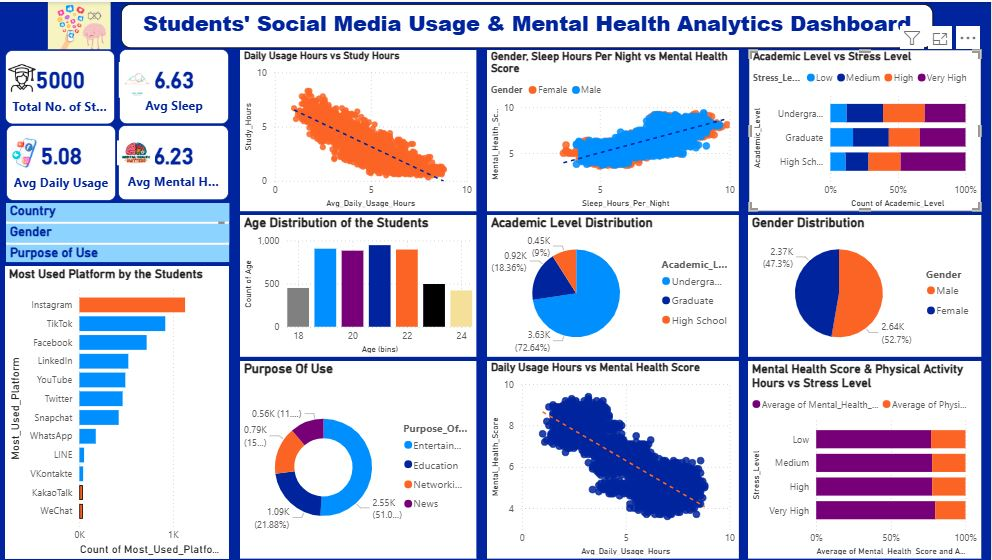

This screenshot's page, from the dashboard's own definition file:
{"tool":"powerbi","page":{"name":"Page 1","canvas":[1280,720],"ordinal":0},"visuals":[{"type":"pieChart","title":"Gender  Distribution","fields":{"Category":["Student Social Media And Mental Health Impact.Gender"],"Y":["CountNonNull(Student Social Media And Mental Health Impact.Gender)"]},"box":[966.5,274.8,300.6,183.2],"z":0},{"type":"clusteredColumnChart","title":"Age Distribution of the Students","fields":{"Category":["Student Social Media And Mental Health Impact.Age (bins)"],"Y":["CountNonNull(Student Social Media And Mental Health Impact.Age)"]},"box":[311,274.8,304.5,183.2],"z":1000},{"type":"card","fields":{"Values":["Student Social Media And Mental Health Impact.Avg Daily Usage"]},"box":[9,158.7,141.9,98.1],"z":2000},{"type":"pieChart","title":"Academic Level Distribution","fields":{"Category":["Student Social Media And Mental Health Impact.Academic_Level"],"Y":["CountNonNull(Student Social Media And Mental Health Impact.Academic_Level)"]},"box":[629.7,274.8,325.2,183.2],"z":3000},{"type":"barChart","title":" Most Used Platform by the Students","fields":{"Category":["Student Social Media And Mental Health Impact.Most_Used_Platform"],"Y":["CountNonNull(Student Social Media And Mental Health Impact.Most_Used_Platform)"]},"box":[7.7,340.6,289,378.1],"z":4000},{"type":"donutChart","title":" Purpose Of Use ","fields":{"Category":["Student Social Media And Mental Health Impact.Purpose_Of_Use"],"Y":["CountNonNull(Student Social Media And Mental Health Impact.Purpose_Of_Use)"]},"box":[311,463.2,304.5,255.5],"z":5000},{"type":"scatterChart","title":"Daily Usage Hours vs Mental Health Score","fields":{"X":["Student Social Media And Mental Health Impact.Avg_Daily_Usage_Hours"],"Y":["Student Social Media And Mental Health Impact.Mental_Health_Score"]},"box":[629.7,463.2,325.2,255.5],"z":6000},{"type":"scatterChart","title":"Daily Usage Hours vs Study Hours","fields":{"Y":["Student Social Media And Mental Health Impact.Study_Hours"],"X":["Student Social Media And Mental Health Impact.Avg_Daily_Usage_Hours"]},"box":[311,61.9,304.5,207.7],"z":7000},{"type":"scatterChart","title":"Gender, Sleep Hours Per Night vs Mental Health Score","fields":{"X":["Student Social Media And Mental Health Impact.Sleep_Hours_Per_Night"],"Y":["Student Social Media And Mental Health Impact.Mental_Health_Score"],"Series":["Student Social Media And Mental Health Impact.Gender"]},"box":[629.7,61.9,325.2,207.7],"z":8000},{"type":"hundredPercentStackedBarChart","title":" Mental Health Score & Physical Activity Hours vs Stress Level","fields":{"Y":["Avg(Student Social Media And Mental Health Impact.Mental_Health_Score)","Avg(Student Social Media And Mental Health Impact.Physical_Activity_Hours)"],"Category":["Student Social Media And Mental Health Impact.Stress_Level"]},"box":[966.5,463.2,300.6,255.5],"z":9000},{"type":"textbox","box":[157.4,2.6,1047.7,56.8],"z":10000},{"type":"hundredPercentStackedBarChart","title":" Academic Level vs Stress Level","fields":{"Category":["Student Social Media And Mental Health Impact.Academic_Level"],"Y":["CountNonNull(Student Social Media And Mental Health Impact.Academic_Level)"],"Series":["Student Social Media And Mental Health Impact.Stress_Level"]},"box":[967.7,61.9,299.4,207.7],"z":11000},{"type":"image","box":[9.6,77.1,41.3,41.3],"z":14001},{"type":"card","fields":{"Values":["Student Social Media And Mental Health Impact.Avg Sleep"]},"box":[154.8,60.6,141.9,96.8],"z":14002,"group":"g2"},{"type":"card","fields":{"Values":["Student Social Media And Mental Health Impact.Total No. of Students"]},"box":[8.3,61.9,141.8,96.3],"z":14003,"group":"g1"},{"type":"card","fields":{"Values":["Student Social Media And Mental Health Impact.Avg Mental Health"]},"box":[153.6,158.7,143.2,96.8],"z":14004,"group":"g3"},{"type":"image","box":[9.7,77,41.3,41.3],"z":14005,"group":"g1"},{"type":"group","id":"g1","title":"Group 1","box":[8.3,61.9,141.8,96.3],"z":14006},{"type":"image","box":[154.8,72.3,49,46.5],"z":14007},{"type":"image","box":[153.5,77.4,49,46.5],"z":14008,"group":"g2"},{"type":"group","id":"g2","title":"Group 2","box":[153.5,60.6,143.2,96.8],"z":14009},{"type":"image","box":[9,171.6,49,46.5],"z":14010},{"type":"image","box":[58.1,0,91.6,60.6],"z":14011},{"type":"image","box":[152.3,171.6,49,46.5],"z":14012,"group":"g3"},{"type":"group","id":"g3","title":"Group 3","box":[152.3,158.7,144.5,96.8],"z":14013},{"type":"listSlicer","fields":{"Values":["Student Social Media And Mental Health Impact.Country"]},"box":[9,259.6,287.7,27.1],"z":14014},{"type":"listSlicer","fields":{"Values":["Student Social Media And Mental Health Impact.Purpose_Of_Use"]},"box":[9,313.8,287.7,21.9],"z":14015},{"type":"listSlicer","fields":{"Values":["Student Social Media And Mental Health Impact.Gender"]},"box":[9,286.7,287.7,27.1],"z":14016}]}

Visuals, with their boxes in screenshot pixels (x1, y1, x2, y2), scaled from the page's 1280x720 canvas onto the 992x560 screenshot:
"Gender  Distribution" pieChart: bbox(749, 214, 982, 356)
"Age Distribution of the Students" clusteredColumnChart: bbox(241, 214, 477, 356)
card - Student Social Media And Mental Health Impact.Avg Daily Usage: bbox(7, 123, 117, 200)
"Academic Level Distribution" pieChart: bbox(488, 214, 740, 356)
" Most Used Platform by the Students" barChart: bbox(6, 265, 230, 559)
" Purpose Of Use " donutChart: bbox(241, 360, 477, 559)
"Daily Usage Hours vs Mental Health Score" scatterChart: bbox(488, 360, 740, 559)
"Daily Usage Hours vs Study Hours" scatterChart: bbox(241, 48, 477, 210)
"Gender, Sleep Hours Per Night vs Mental Health Score" scatterChart: bbox(488, 48, 740, 210)
" Mental Health Score & Physical Activity Hours vs Stress Level" hundredPercentStackedBarChart: bbox(749, 360, 982, 559)
textbox: bbox(122, 2, 934, 46)
" Academic Level vs Stress Level" hundredPercentStackedBarChart: bbox(750, 48, 982, 210)
image: bbox(7, 60, 39, 92)
card - Student Social Media And Mental Health Impact.Avg Sleep: bbox(120, 47, 230, 122)
card - Student Social Media And Mental Health Impact.Total No. of Students: bbox(6, 48, 116, 123)
card - Student Social Media And Mental Health Impact.Avg Mental Health: bbox(119, 123, 230, 199)
image: bbox(8, 60, 40, 92)
"Group 1" group: bbox(6, 48, 116, 123)
image: bbox(120, 56, 158, 92)
image: bbox(119, 60, 157, 96)
"Group 2" group: bbox(119, 47, 230, 122)
image: bbox(7, 133, 45, 170)
image: bbox(45, 0, 116, 47)
image: bbox(118, 133, 156, 170)
"Group 3" group: bbox(118, 123, 230, 199)
listSlicer - Student Social Media And Mental Health Impact.Country: bbox(7, 202, 230, 223)
listSlicer - Student Social Media And Mental Health Impact.Purpose_Of_Use: bbox(7, 244, 230, 261)
listSlicer - Student Social Media And Mental Health Impact.Gender: bbox(7, 223, 230, 244)
